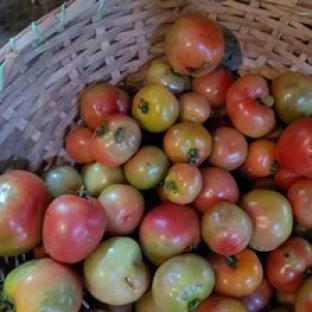Tomato: (84, 236, 150, 305), (42, 194, 107, 263), (0, 170, 50, 256), (5, 258, 82, 311), (165, 14, 225, 76), (140, 202, 200, 264), (152, 254, 214, 311), (239, 189, 293, 252), (226, 74, 275, 137), (91, 113, 142, 167), (208, 248, 263, 298), (201, 202, 252, 254), (265, 237, 311, 293), (78, 83, 130, 129), (131, 84, 179, 133), (98, 184, 144, 235), (193, 166, 239, 213), (123, 144, 169, 189), (276, 117, 311, 176), (163, 122, 211, 165), (271, 72, 311, 123), (193, 66, 233, 115), (208, 126, 247, 171), (162, 163, 201, 204), (81, 162, 126, 197), (144, 60, 190, 94), (241, 138, 278, 178), (42, 163, 83, 199), (239, 276, 275, 311), (287, 179, 311, 227), (65, 126, 93, 164), (179, 91, 211, 122), (195, 293, 247, 311), (273, 165, 305, 192), (134, 289, 162, 311), (294, 278, 311, 311)
